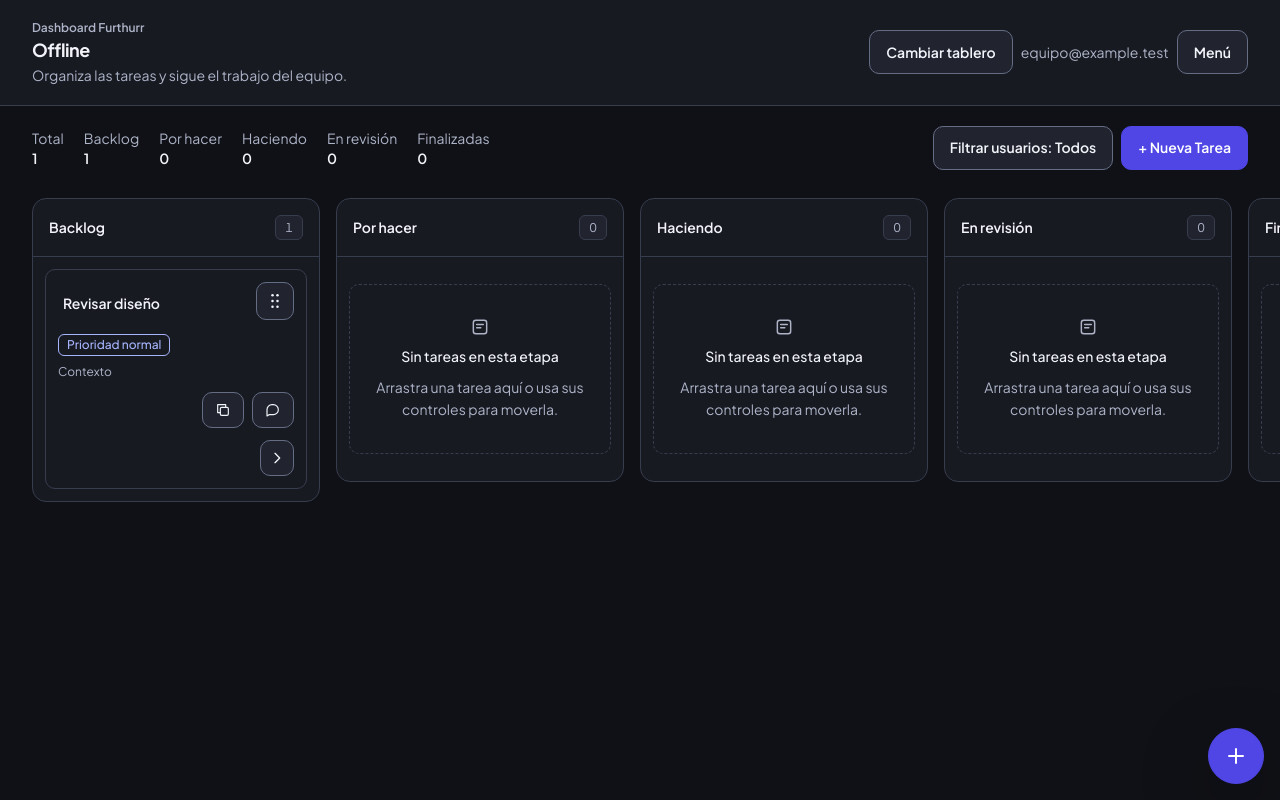
Test: Integración del tablero › muestra un botón flotante fijo que abre el formulario de nueva tarea
Click the button named "Crear tarea".
click(1236, 756)  # box [1208, 728, 1264, 784]
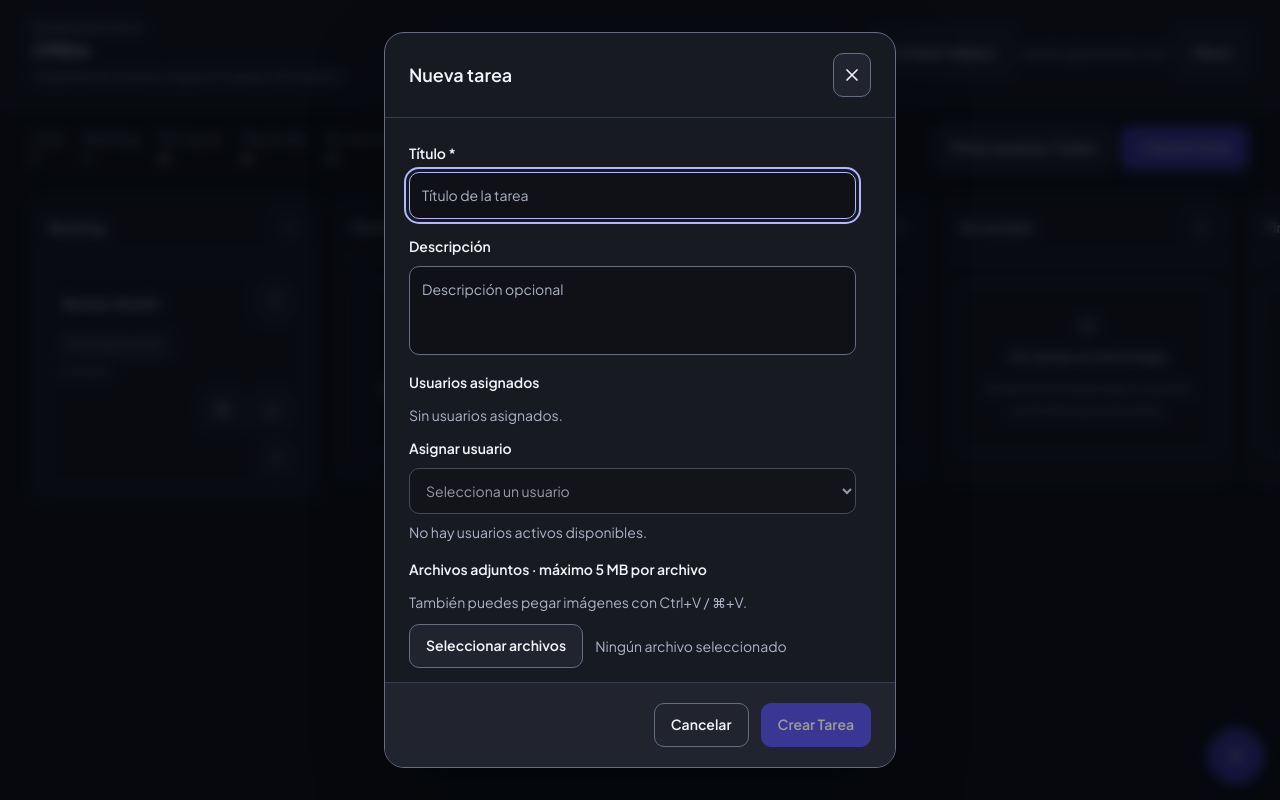
Now the dialog "Nueva tarea" is shown, box [384, 32, 896, 768]
